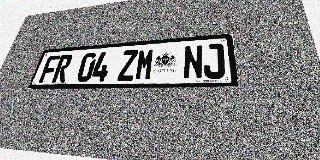0: (75, 52, 97, 82)
4: (90, 51, 112, 82)
F: (38, 55, 60, 83)
J: (203, 43, 225, 79)
M: (134, 48, 155, 81)
N: (183, 45, 203, 79)
R: (51, 54, 73, 83)
Z: (117, 49, 138, 81)
